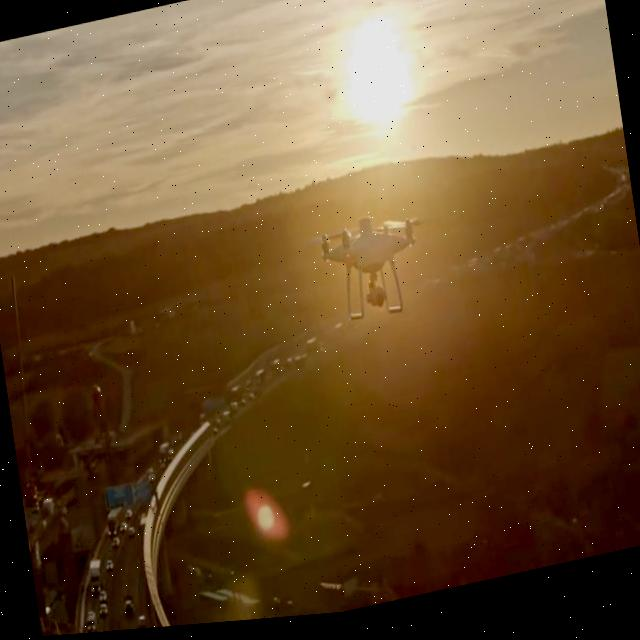drone: (308, 209, 437, 334)
